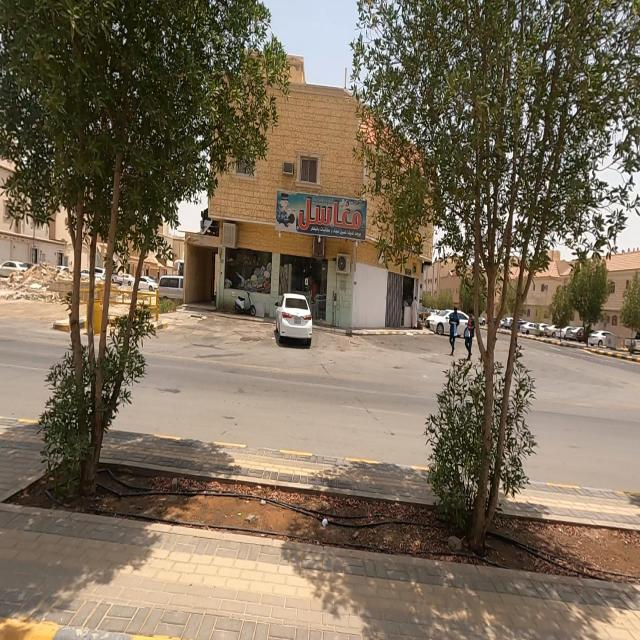debris: (216, 464, 405, 576), (13, 262, 67, 318), (2, 254, 33, 314)
